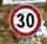limite 30: (7, 3, 42, 36)
